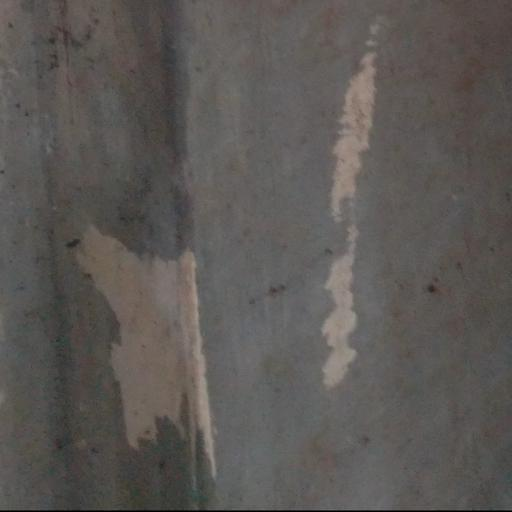peeling: (72, 205, 261, 488), (301, 8, 422, 392)
